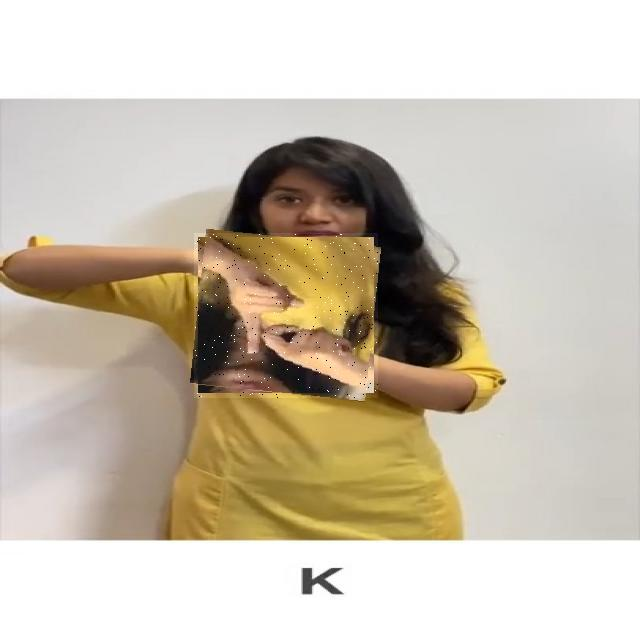K: (194, 233, 378, 398)
